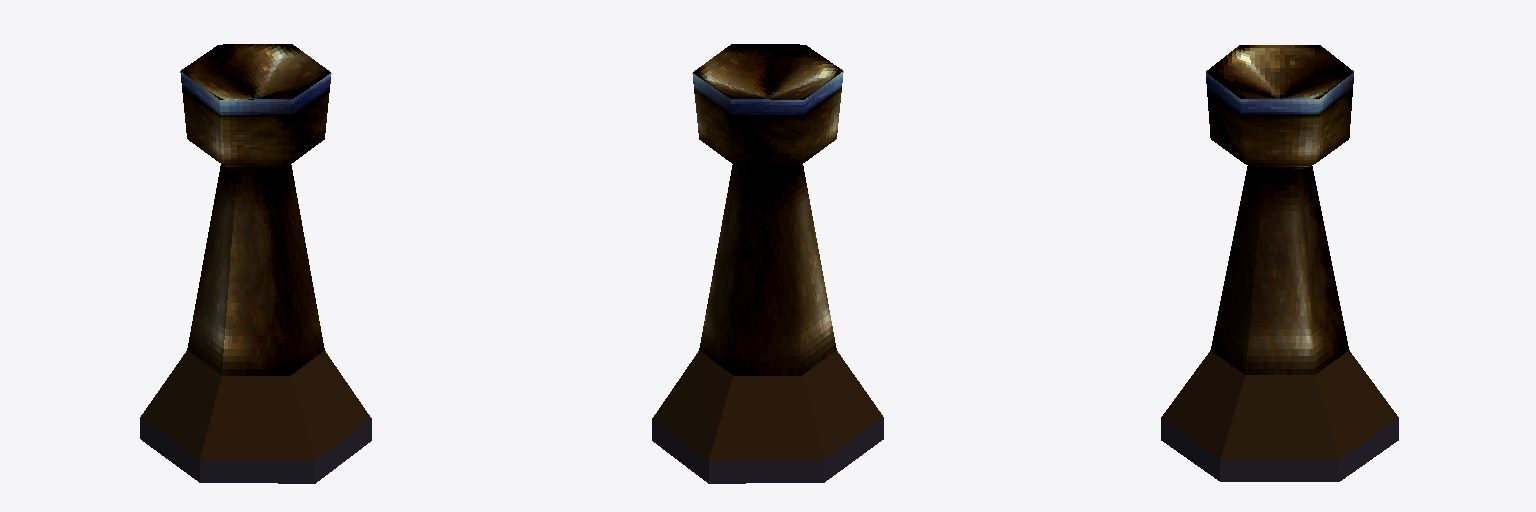
3 renders of one model, left to right at view 1: azimuth 30°, elevation 25°; view 2: azimuth 150°, elevation 25°; view 3: azimuth 270°, elevation 25°, orthographic.
Parts seen in each view (by area): view 1: Mesh2 Group3 Group1 Model, Mesh1 Group2 Group1 Model; view 2: Mesh2 Group3 Group1 Model, Mesh1 Group2 Group1 Model; view 3: Mesh2 Group3 Group1 Model, Mesh1 Group2 Group1 Model.
Part boxes in pixels (x1,y1,x2,y2): Mesh2 Group3 Group1 Model: (140, 164, 371, 483); Mesh1 Group2 Group1 Model: (180, 44, 331, 172); Mesh2 Group3 Group1 Model: (652, 164, 883, 483); Mesh1 Group2 Group1 Model: (692, 44, 843, 172); Mesh2 Group3 Group1 Model: (1161, 166, 1398, 481); Mesh1 Group2 Group1 Model: (1206, 45, 1353, 171).
Bounding box in the file's own units: 1.89 × 3.87 × 2.27.
Materials: 7 (4 with a texture image).